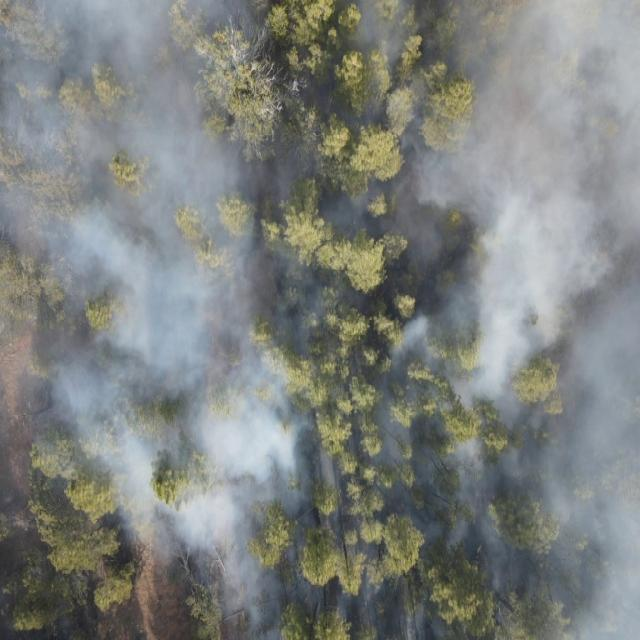smoke: (0, 0, 640, 469), (114, 470, 640, 571), (208, 571, 640, 640)
